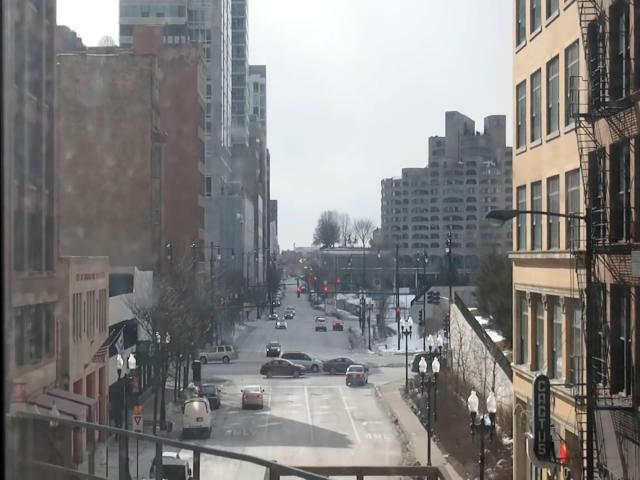signal light: (397, 305, 402, 323), (298, 287, 303, 301), (325, 286, 330, 299), (314, 276, 319, 288), (338, 280, 342, 290)
